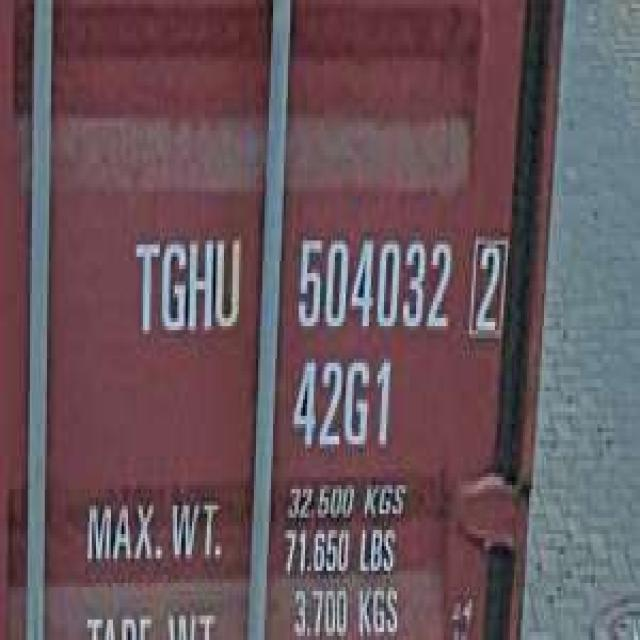dv: (465, 224, 510, 351)
owner: (126, 224, 245, 347)
serial: (288, 220, 454, 338)
size: (286, 346, 395, 461)
